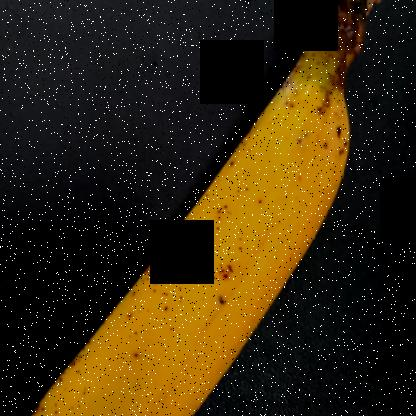ripe: (0, 56, 377, 416)
